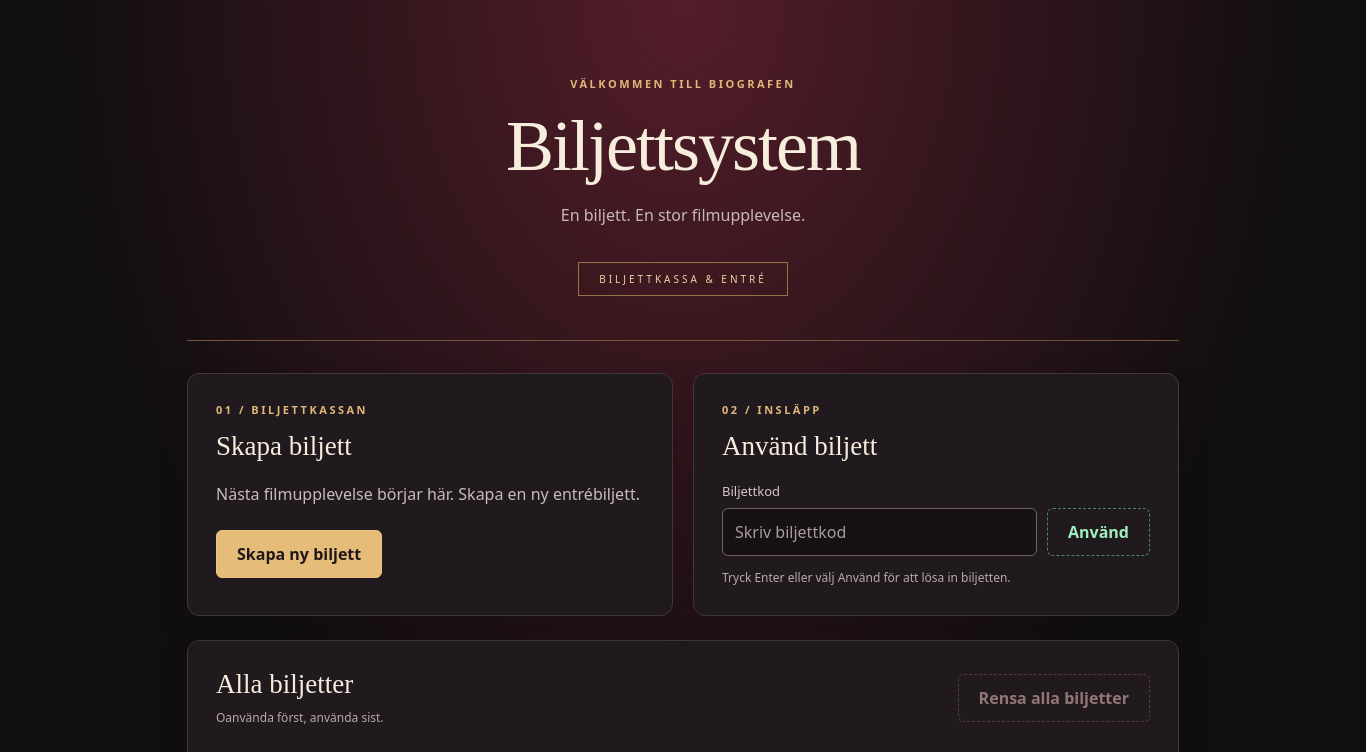
Test case: Ticket system › should preserve the created ticket confirmation when refreshing fails
Click the button "Skapa ny biljett": (299, 554) x1=216 y1=530 x2=382 y2=578
(page scrolled)
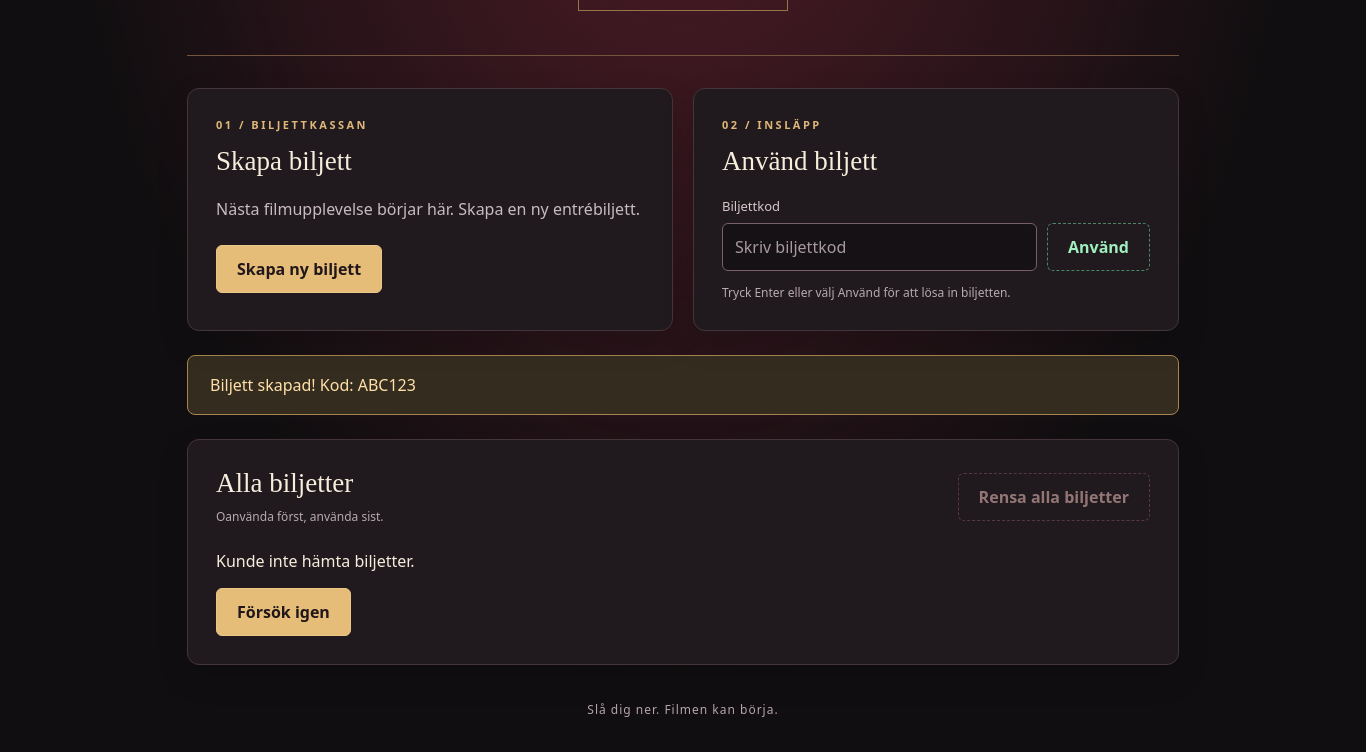
Result: the text "Kunde inte hämta biljetter." is shown at x1=216 y1=550 x2=415 y2=572
Result: the text "Biljett skapad! Kod: ABC123" is shown at x1=187 y1=355 x2=1179 y2=415
Click the button "Försök igen": (283, 612) x1=216 y1=588 x2=351 y2=636
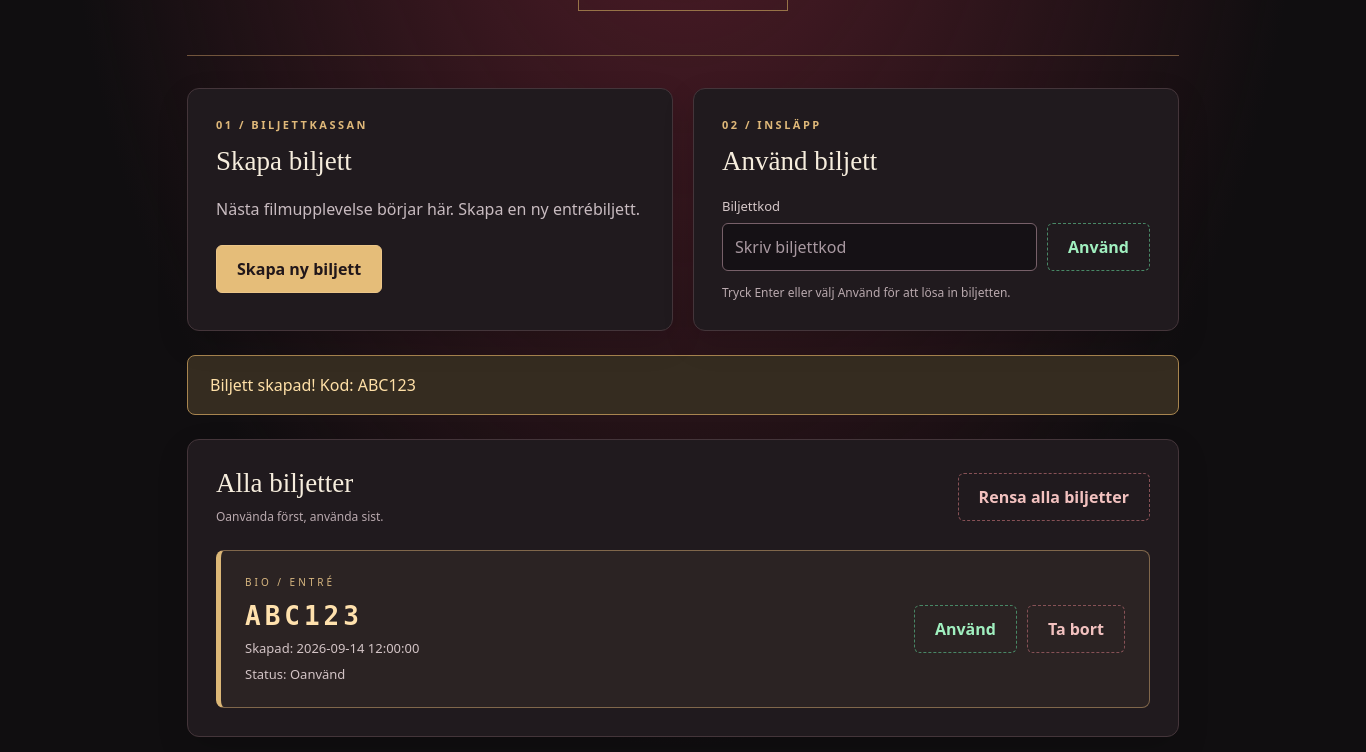
Result: the text "Biljett skapad! Kod: ABC123" is shown at x1=187 y1=355 x2=1179 y2=415
Result: the text "ABC123" is shown at x1=245 y1=601 x2=363 y2=631
Result: the message "Kunde inte hämta biljetter." is gone
